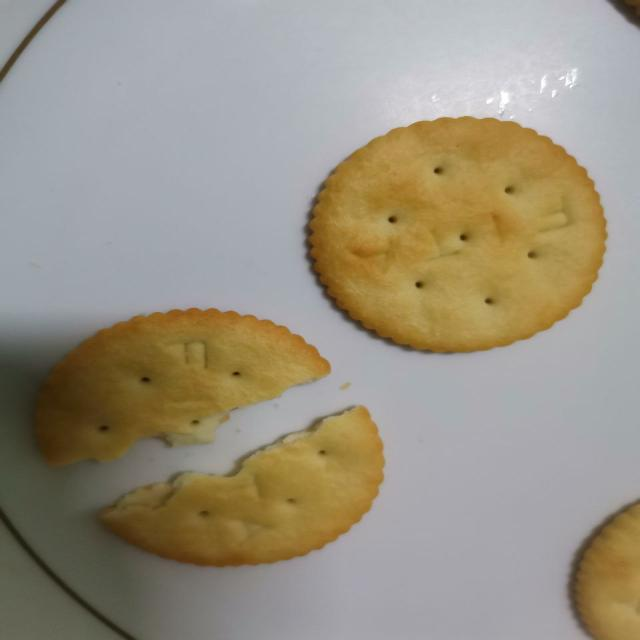broken biscuit: (31, 305, 332, 467), (96, 403, 387, 567)
intact biscuit: (304, 114, 608, 354)
